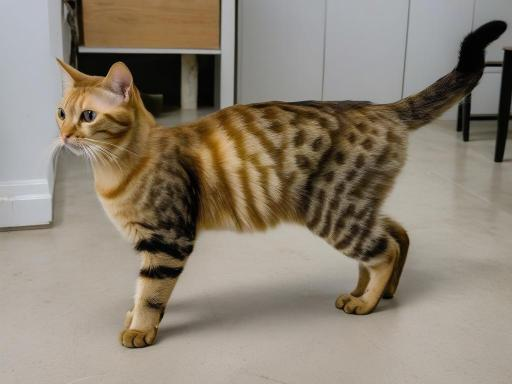cat_standing: (56, 20, 506, 348)
